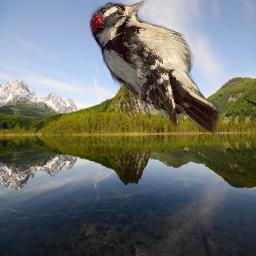Woodpecker: (89, 0, 219, 134)
